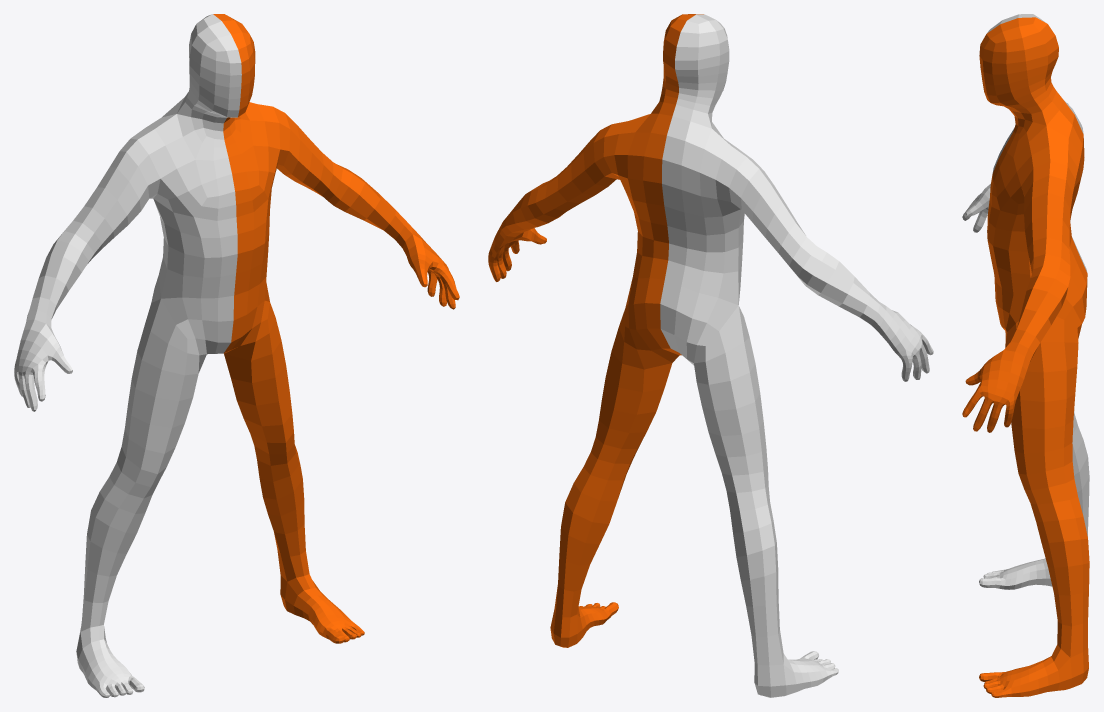
File: male.fbx
The picture shows the model from 3 angles, left to right: view 1: azimuth 30°, elevation 25°; view 2: azimuth 150°, elevation 25°; view 3: azimuth 270°, elevation 25°; orthographic projection. The views are drawn at different scales.
Parts seen in each view (by area): view 1: basemesh_male; view 2: basemesh_male; view 3: basemesh_male.
Boxes of the visible parts, x1=… form: basemesh_male: x1=14, y1=14, x2=459, y2=697; basemesh_male: x1=488, y1=14, x2=933, y2=697; basemesh_male: x1=962, y1=14, x2=1089, y2=697.
Size of the model in its own units: 128 by 183 by 33.95.
